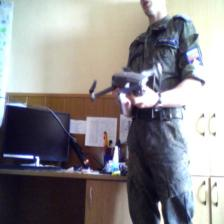drone: (88, 61, 165, 111)
